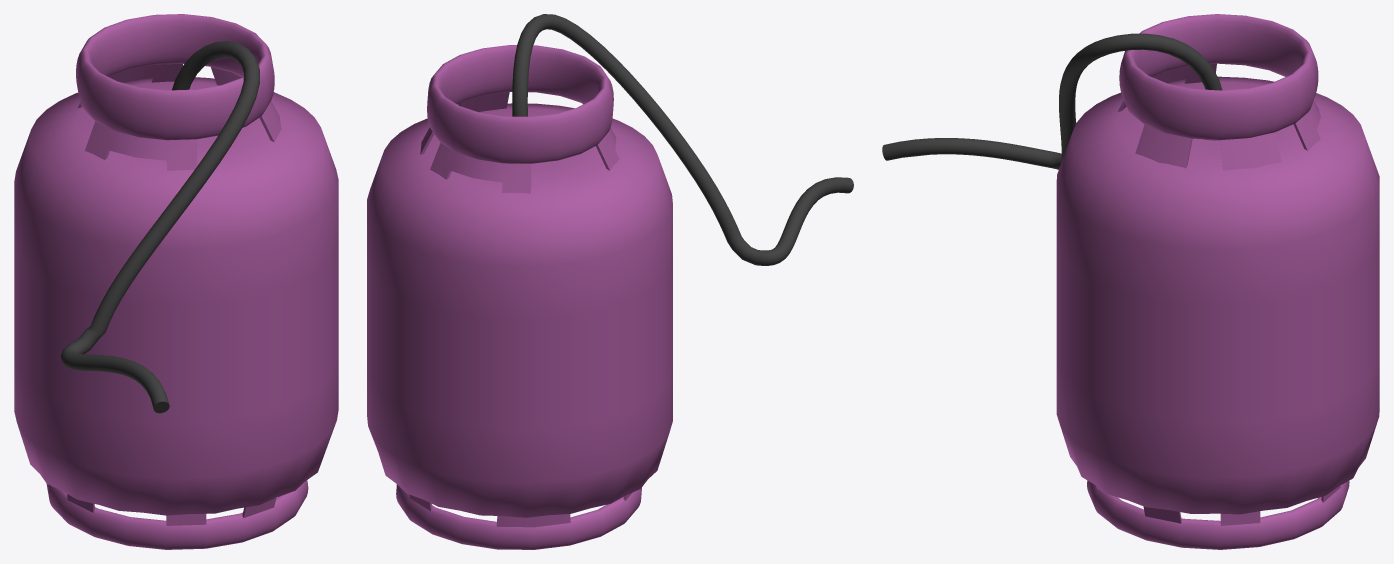
File: PROP_Botijao.fbx
The picture shows the model from 3 angles, left to right: view 1: azimuth 30°, elevation 25°; view 2: azimuth 150°, elevation 25°; view 3: azimuth 270°, elevation 25°; orthographic projection. The views are drawn at different scales.
Parts seen in each view (by area): view 1: Bujao1, MangueiraBotijao; view 2: Bujao1, MangueiraBotijao; view 3: Bujao1, MangueiraBotijao.
Part boxes in pixels (bbox=[...]): Bujao1: bbox=[14, 14, 338, 549]; MangueiraBotijao: bbox=[61, 41, 259, 413]; Bujao1: bbox=[367, 45, 672, 549]; MangueiraBotijao: bbox=[512, 14, 853, 265]; Bujao1: bbox=[1056, 14, 1379, 549]; MangueiraBotijao: bbox=[882, 33, 1222, 169].
Size of the model in its own units: 4.74 by 6.38 by 6.06.
